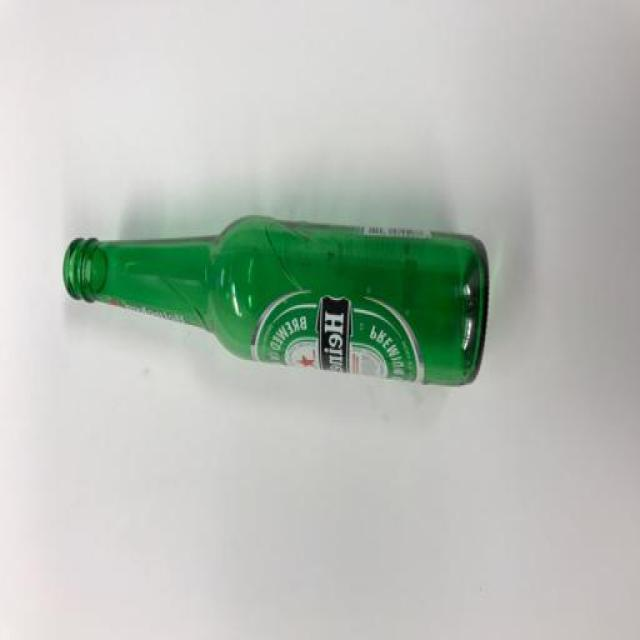glass: (59, 200, 520, 392)
